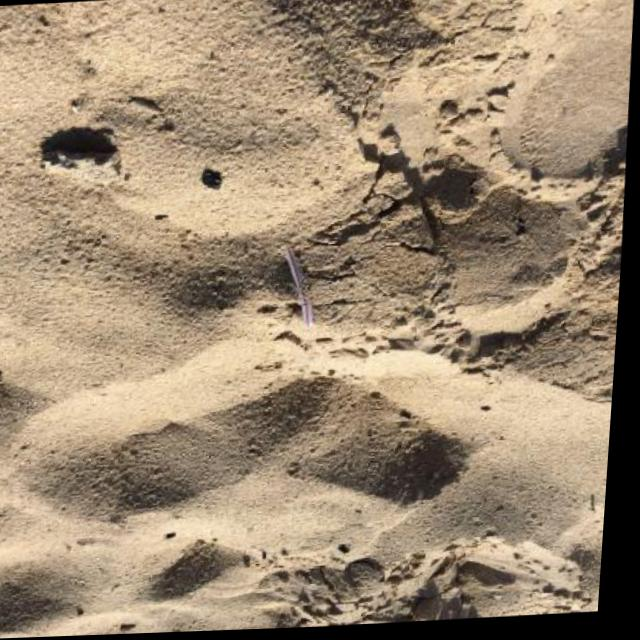plastic: (278, 244, 318, 329)
